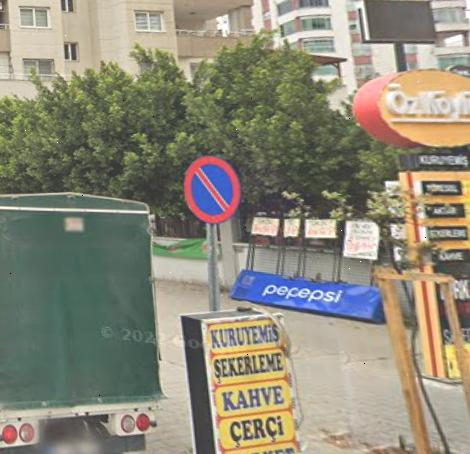nopark: (181, 156, 241, 222)
